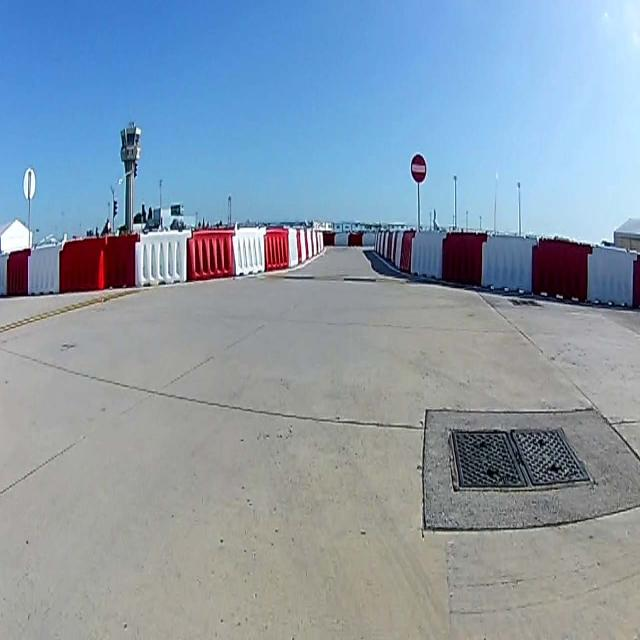girisyok: (410, 153, 427, 185)
